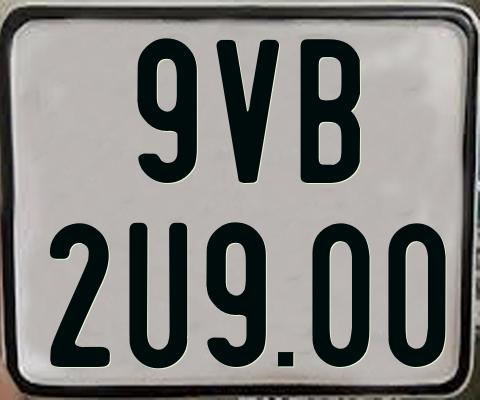0: (309, 222, 369, 371), (387, 223, 445, 370)
2: (47, 222, 112, 367)
9: (206, 219, 268, 369), (136, 38, 197, 189)
B: (297, 38, 361, 186)
U: (127, 222, 185, 367)
V: (216, 37, 283, 186)
